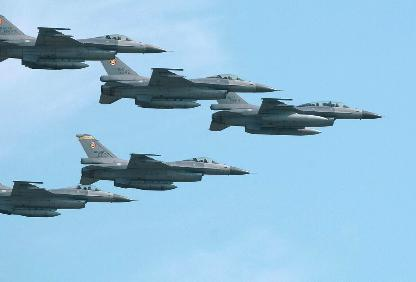F14: (0, 8, 175, 70), (74, 132, 256, 190), (99, 55, 283, 108), (208, 91, 388, 134), (0, 172, 140, 215)
